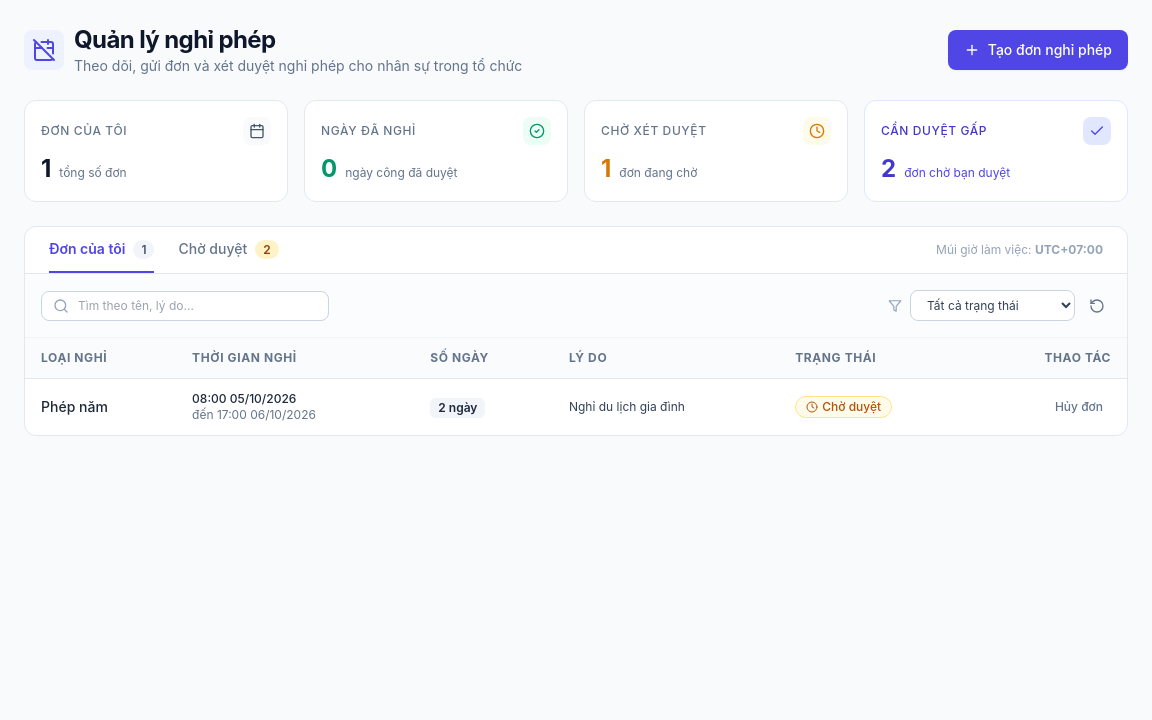
LeavePage and Modals › prevents self-approval in Approvals tab
Click the button "Chờ duyệt2" at {"x": 229, "y": 256}, box [178,239,279,273]
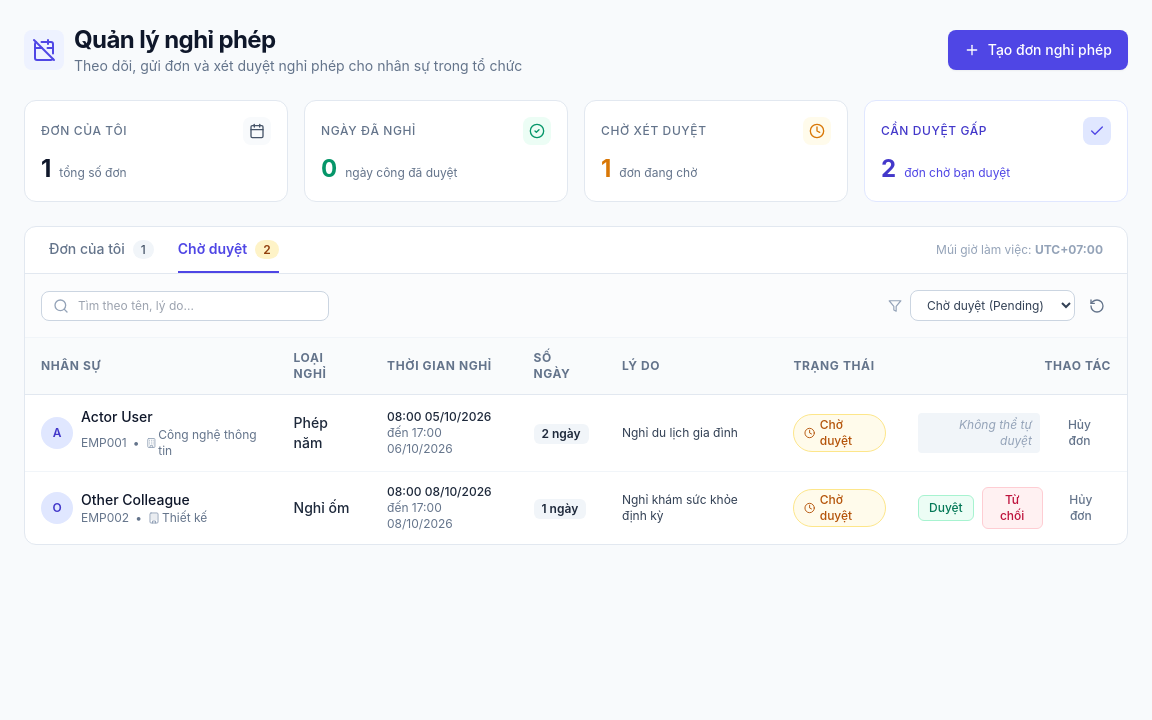
Expected: the text "Other Colleague" is shown, [81,490,207,510]
Expected: the button "Duyệt" is shown, [918,495,974,521]
Expected: the button "Từ chối" is shown, [982,487,1043,529]
